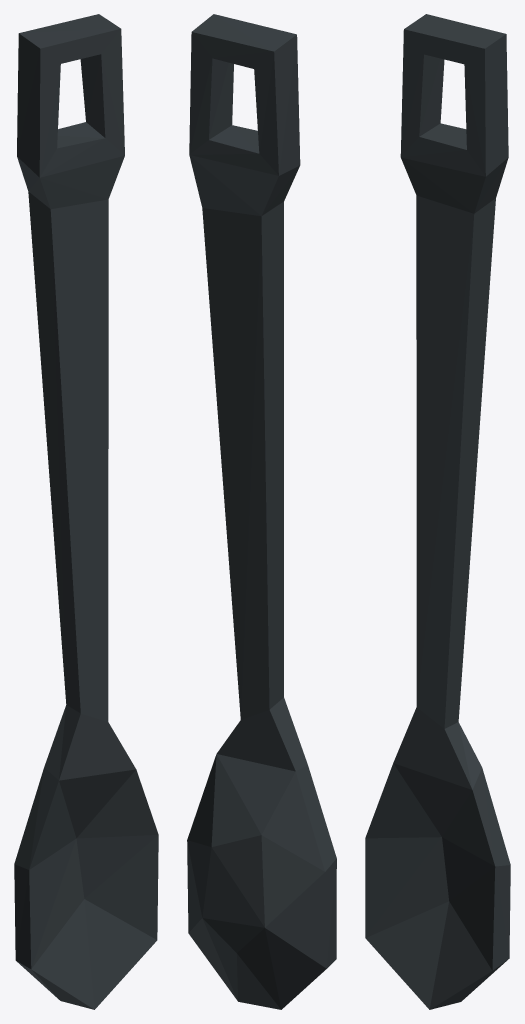
Rendered from MDungeon_Spoon_01.FBX.
The picture shows the model from 3 angles, left to right: view 1: azimuth 30°, elevation 25°; view 2: azimuth 150°, elevation 25°; view 3: azimuth 330°, elevation 25°; orthographic projection. The views are drawn at different scales.
Parts seen in each view (by area): view 1: MDgn_Spoon_01_LOD0; view 2: MDgn_Spoon_01_LOD0; view 3: MDgn_Spoon_01_LOD0.
Part boxes in pixels (<box>): MDgn_Spoon_01_LOD0: <box>14,14,158,1009</box>; MDgn_Spoon_01_LOD0: <box>187,14,336,1009</box>; MDgn_Spoon_01_LOD0: <box>365,14,510,1009</box>.
Size of the model in its own units: 0.0848 by 0.58 by 0.0416.
